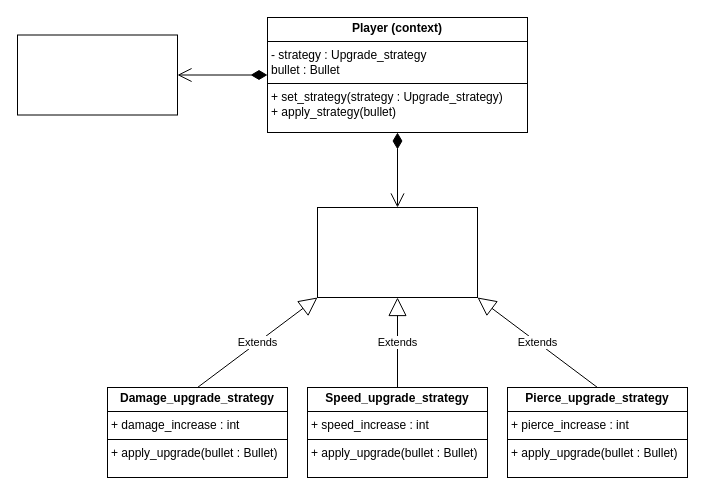
The diagram is 705 pixels wide and 495 high, and some of its shapes have lost their labels. Here are the shapes that lost their labels. From the top down, the centre of each, then its label:
At [97,74]: "Bullet + damage : int + speed : int + pierce : int".
At [397,252]: "Upgrade_strategy + apply_upgrade(bullet : Bullet)".
